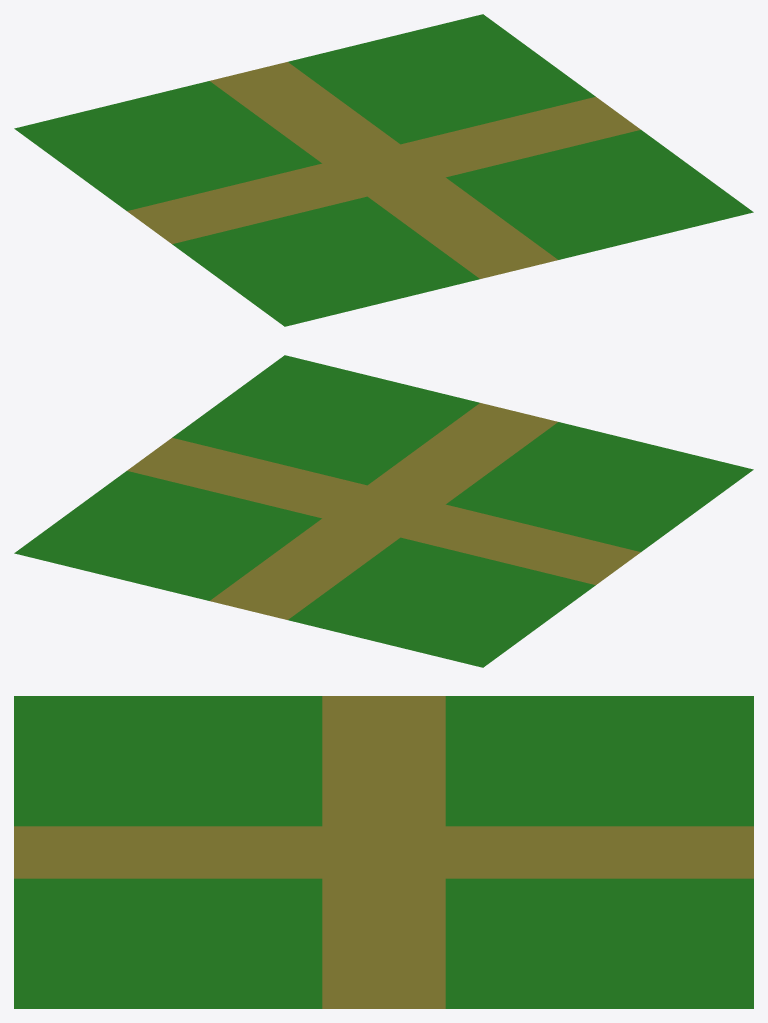
The model's file is hub_before_flat_color.obj.
The picture shows the model from 3 angles, top to bottom: view 1: azimuth 30°, elevation 25°; view 2: azimuth 150°, elevation 25°; view 3: azimuth 270°, elevation 25°; orthographic projection. The views are drawn at different scales.
Visible parts, largest first — view 1: hub_before_flat_color; view 2: hub_before_flat_color; view 3: hub_before_flat_color.
Part boxes in pixels (x1,y1,x2,y2): hub_before_flat_color: (14, 14, 753, 326); hub_before_flat_color: (14, 355, 753, 667); hub_before_flat_color: (14, 696, 753, 1008).
Bounding box in the file's own units: 12 × 0 × 12.
